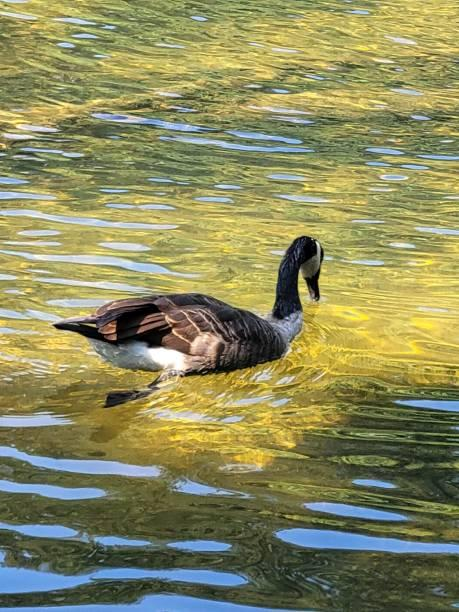Canadian-Goose: (67, 236, 327, 390)
